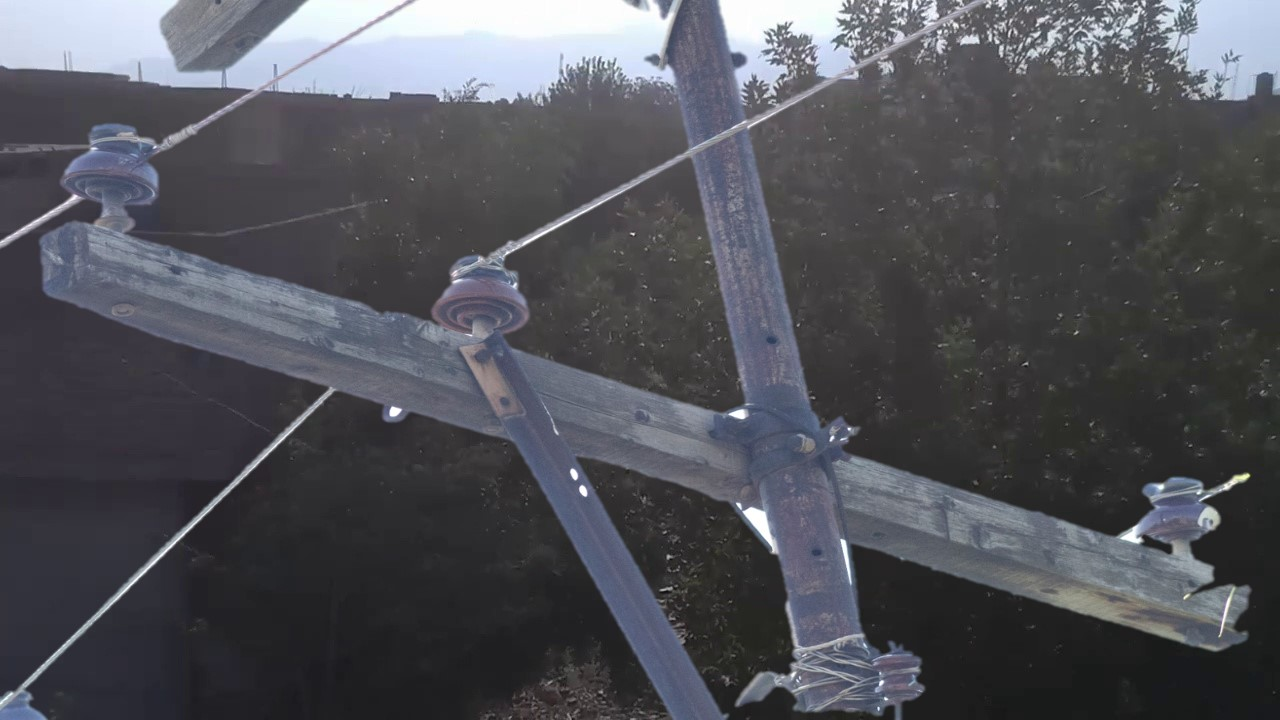defect_pin: (1133, 465, 1228, 553)
insulator_pin: (427, 244, 538, 345), (56, 114, 166, 214)
